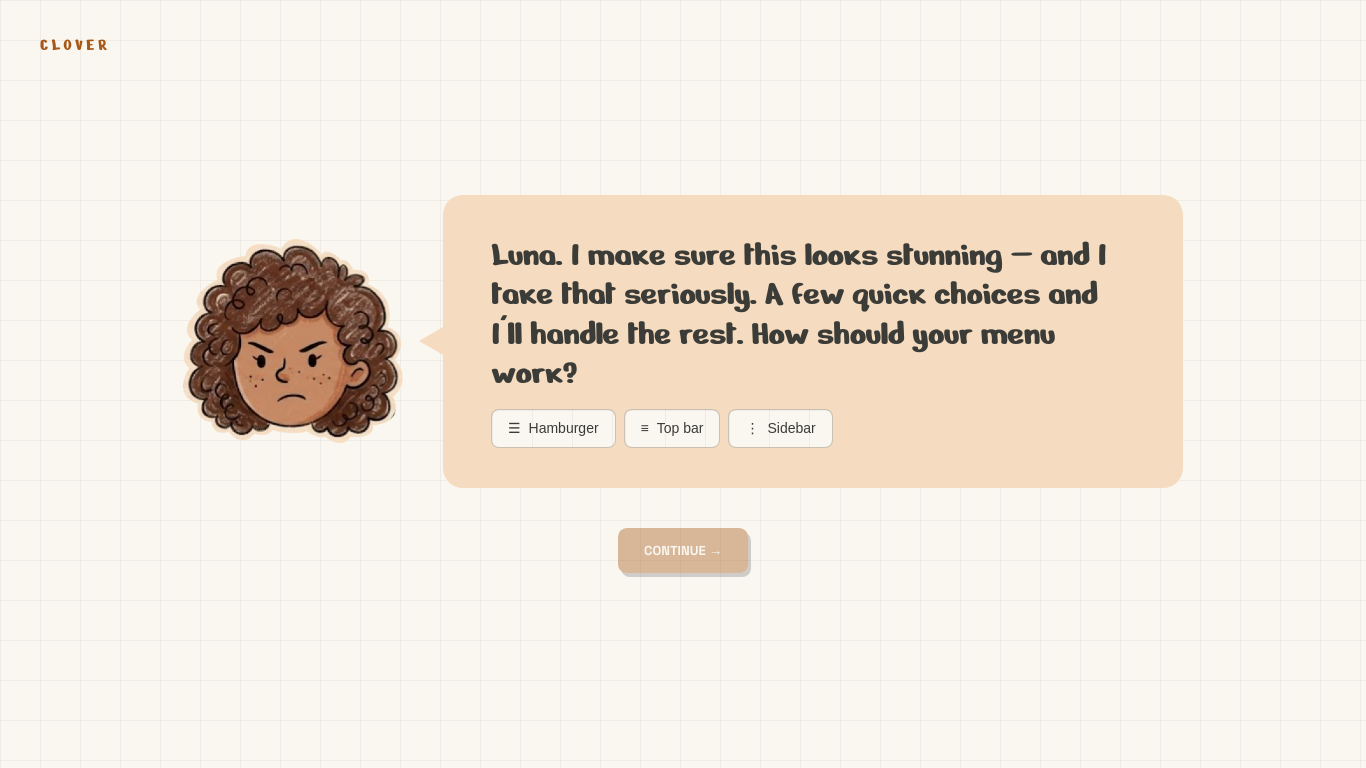
image upload appears after palette selected
Click the button "☰ Hamburger".
click(553, 428)  # box [491,409,616,448]
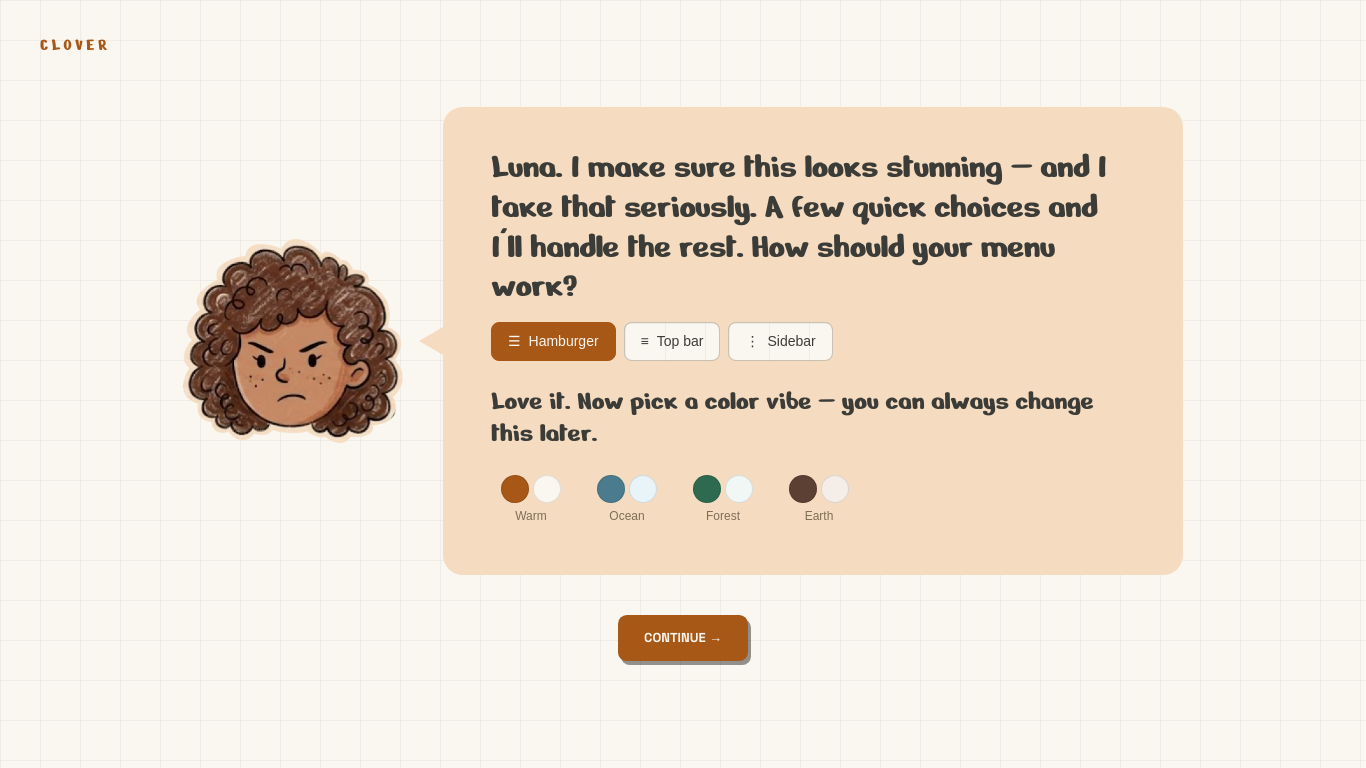
Check: the text "inspiration images" is not shown
Click the button "Warm".
click(531, 500)  # box [491,465,571,535]
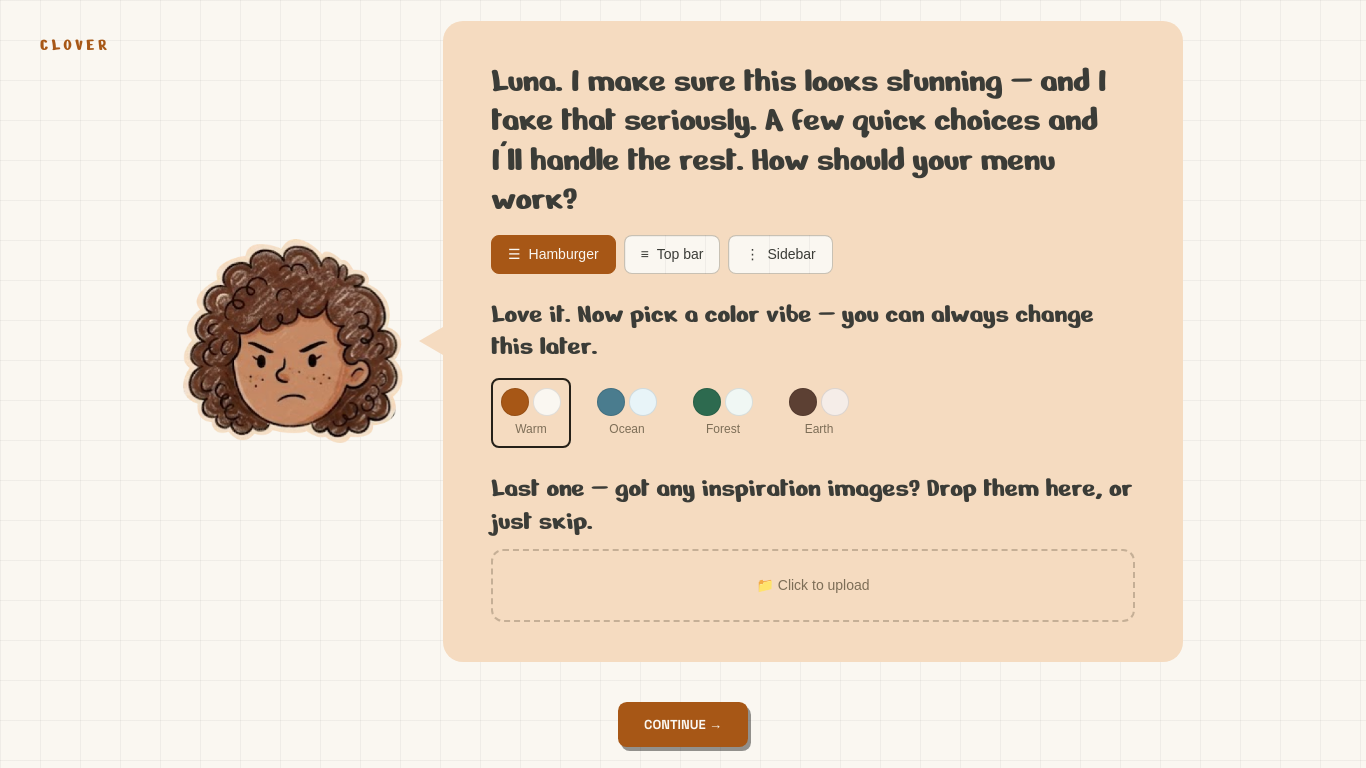
Check: the text "inspiration images" is shown, box [491,471,1132,538]
